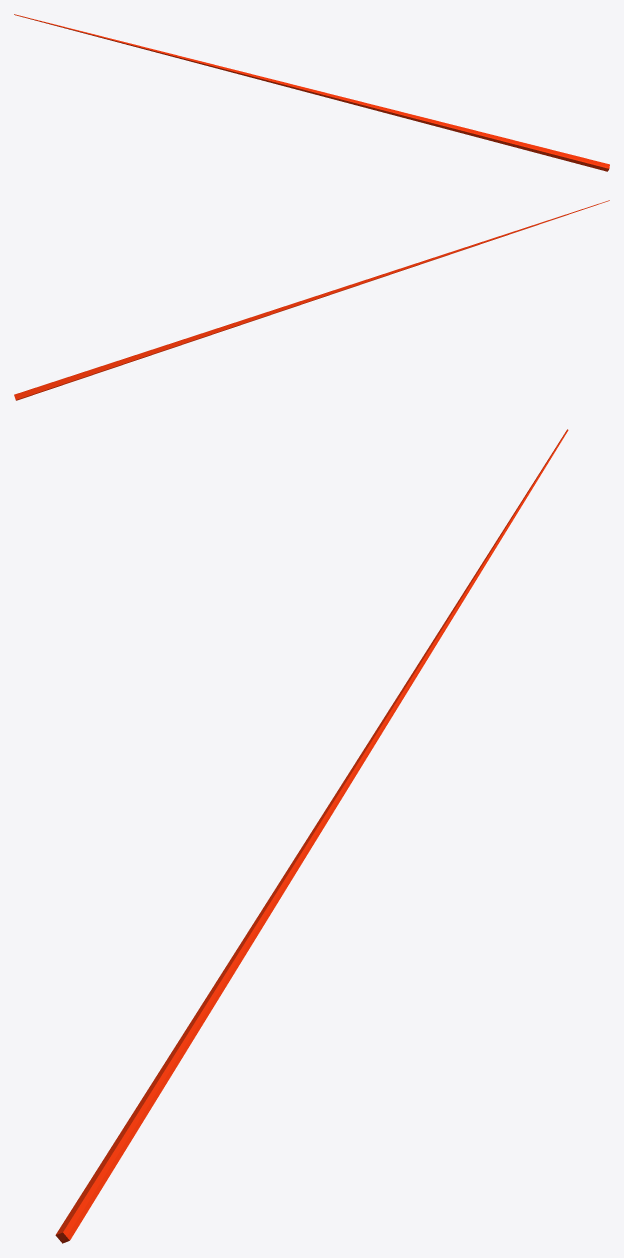
Rendered from Event_421278790_EBrechit_17.fbx.
3 renders of one model, top to bottom at view 1: azimuth 30°, elevation 25°; view 2: azimuth 210°, elevation 25°; view 3: azimuth 270°, elevation 25°, orthographic. The views are drawn at different scales.
Parts seen in each view (by area): view 1: Model; view 2: Model; view 3: Model.
Part boxes in pixels (x1,y1,x2,y2): Model: (14, 14, 609, 171); Model: (14, 200, 609, 400); Model: (55, 429, 568, 1243).
Bounding box in the file's own units: 55.17 × 20.11 × 26.1.
